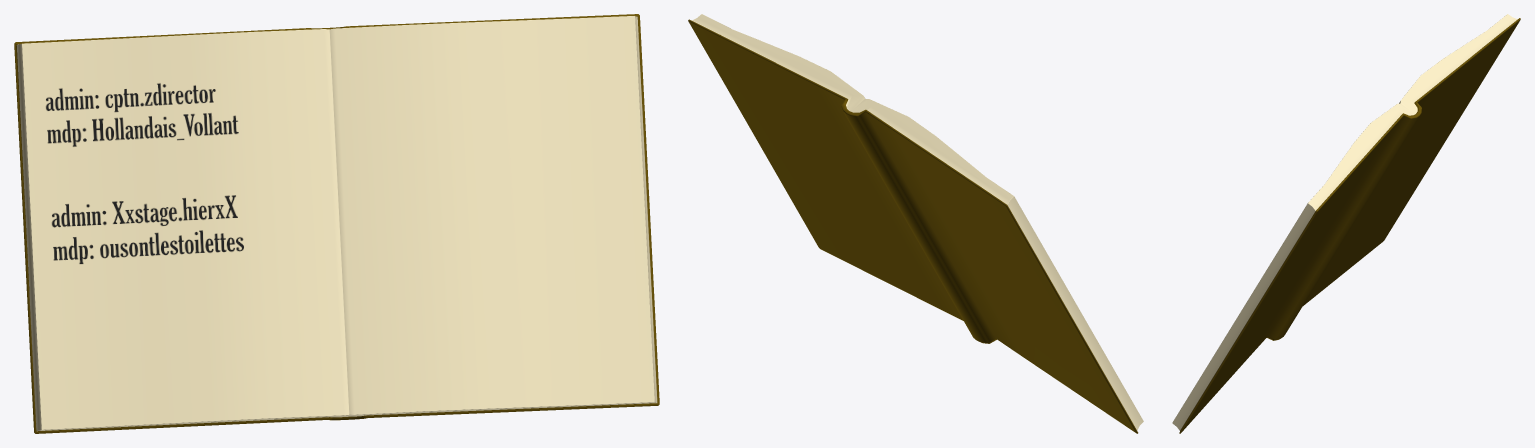
Rendered from book.fbx.
3 renders of one model, left to right at view 1: azimuth 30°, elevation 25°; view 2: azimuth 150°, elevation 25°; view 3: azimuth 270°, elevation 25°, orthographic. The views are drawn at different scales.
Visible parts, largest first — view 1: Book_9; view 2: Book_9; view 3: Book_9.
Boxes of the visible parts, x1,y1,x2,y2 form: Book_9: (14,14,659,433); Book_9: (688,14,1143,433); Book_9: (1172,14,1520,433).
Size of the model in its own units: 25.36 by 14.01 by 17.04.
